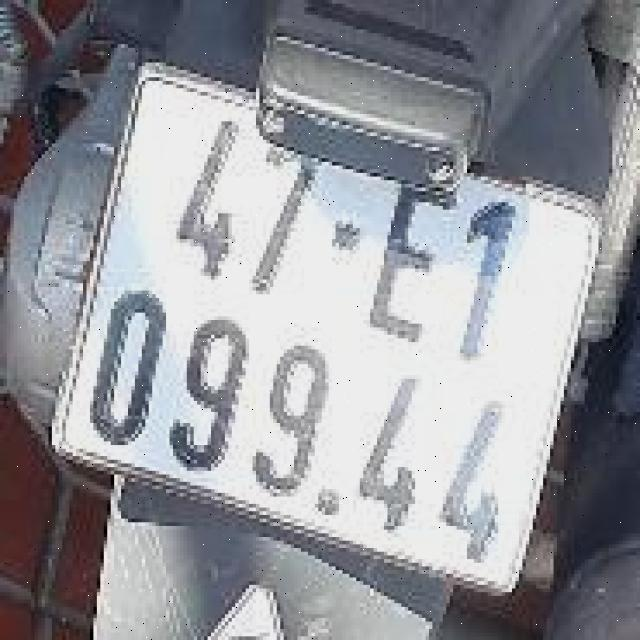0: (80, 283, 180, 458)
1: (433, 189, 540, 373)
4: (415, 386, 545, 572), (343, 364, 462, 543), (160, 109, 270, 285)
7: (220, 131, 339, 314)
9: (156, 305, 267, 489), (239, 329, 350, 506)
E: (351, 164, 467, 353)
